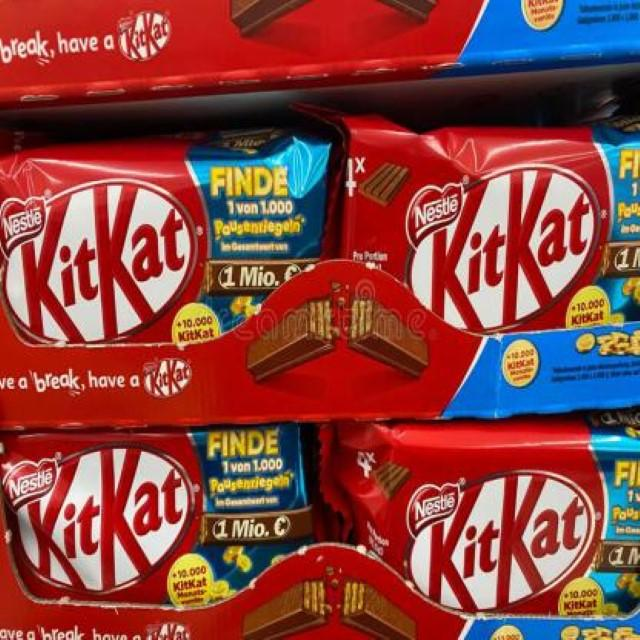kitkat_chocolate: (0, 128, 321, 438), (335, 116, 640, 426), (0, 426, 313, 640), (341, 431, 640, 640)
